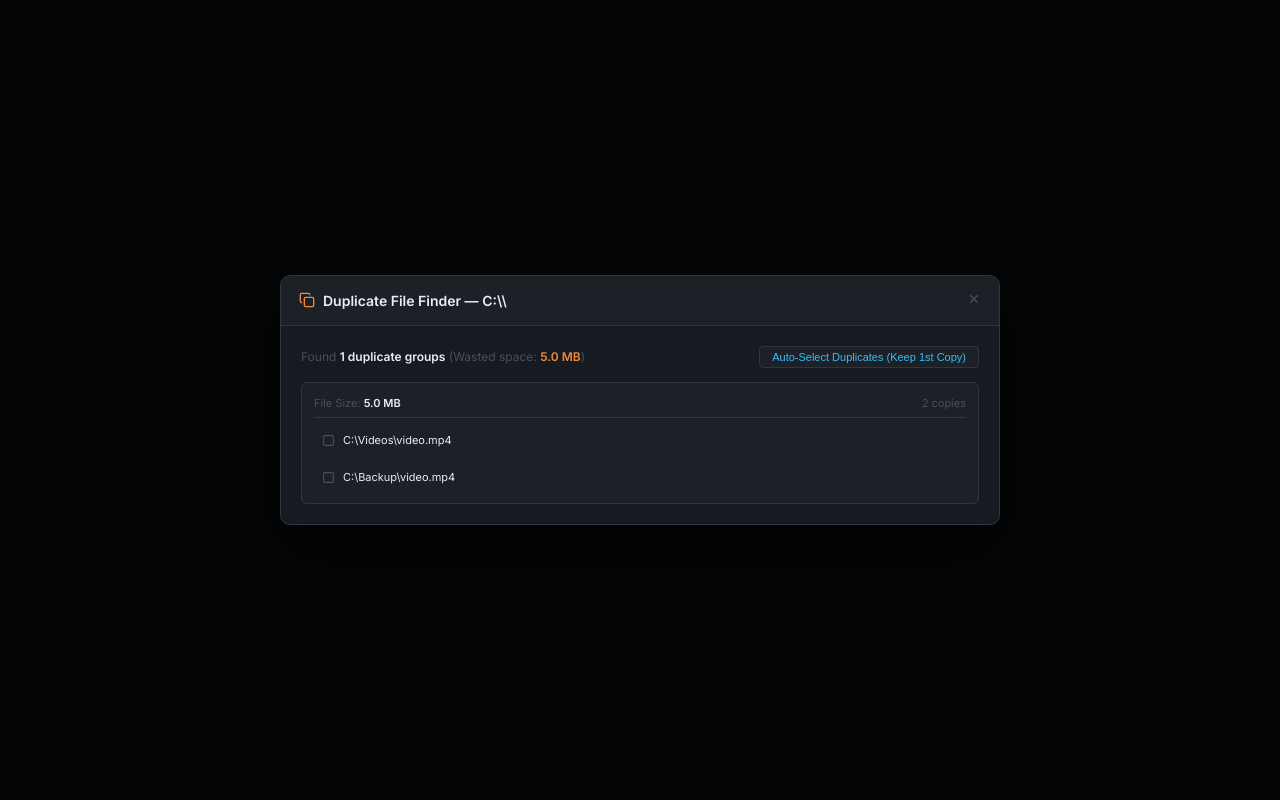
Test case: DuplicatesModal Component Tests › renders duplicate file groups and selects duplicates automatically
The width and height of the screenshot is (1280, 800).
Expected: the text "Duplicate File Finder — C:\\\\" is shown, [323,290,507,311]
Expected: the text "C:\\Videos\\video.mp4" is shown, [343,433,452,447]
Step 1. Click the button "Auto-Select Duplicates (Keep 1st Copy)" → (869, 357), box [759,346,979,368]
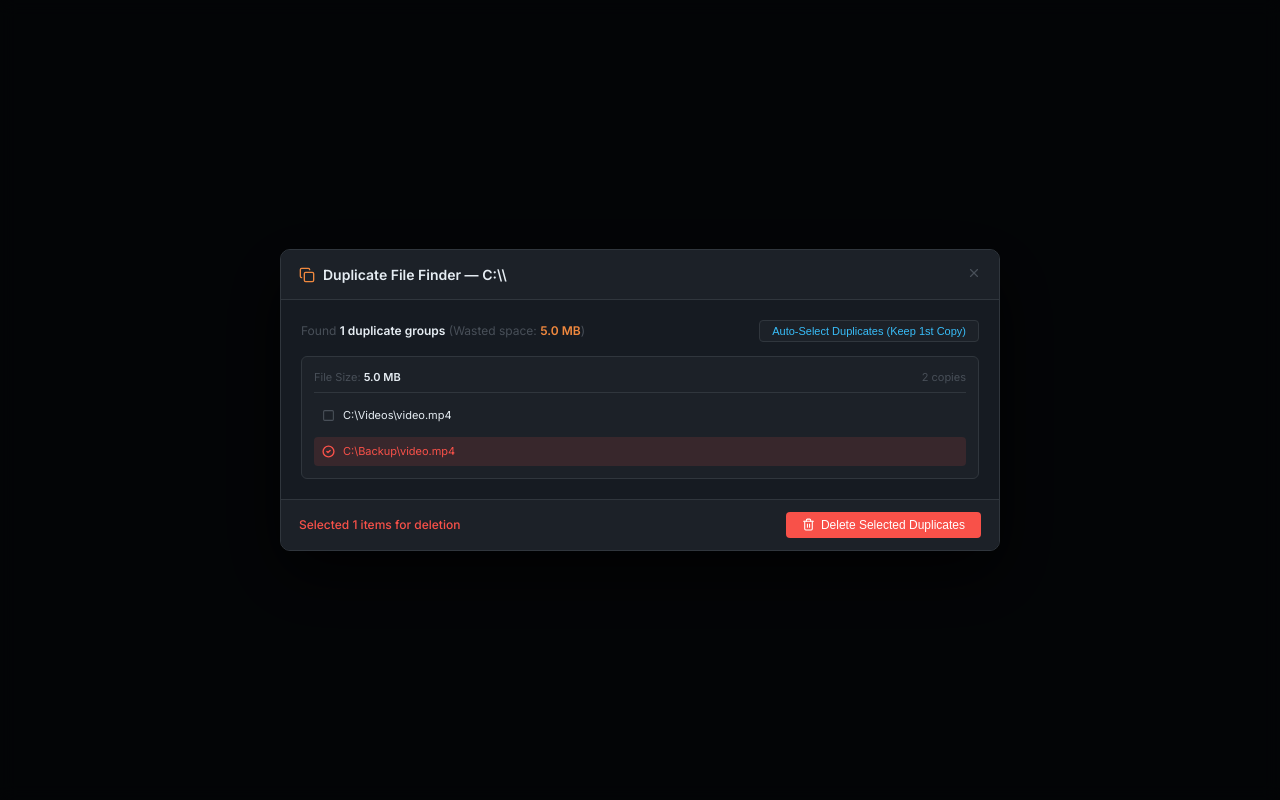
Now the text "Selected 1 items for deletion" is shown, box [299,516,460,534]
